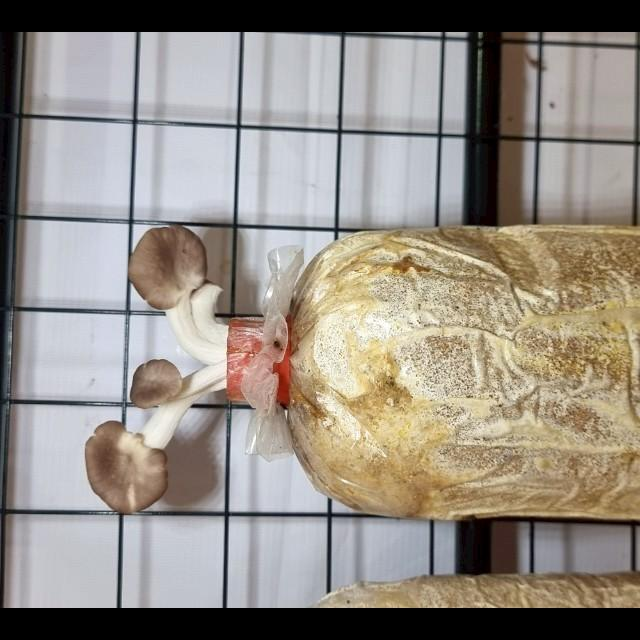normal: (77, 359, 225, 525), (123, 217, 242, 337)
